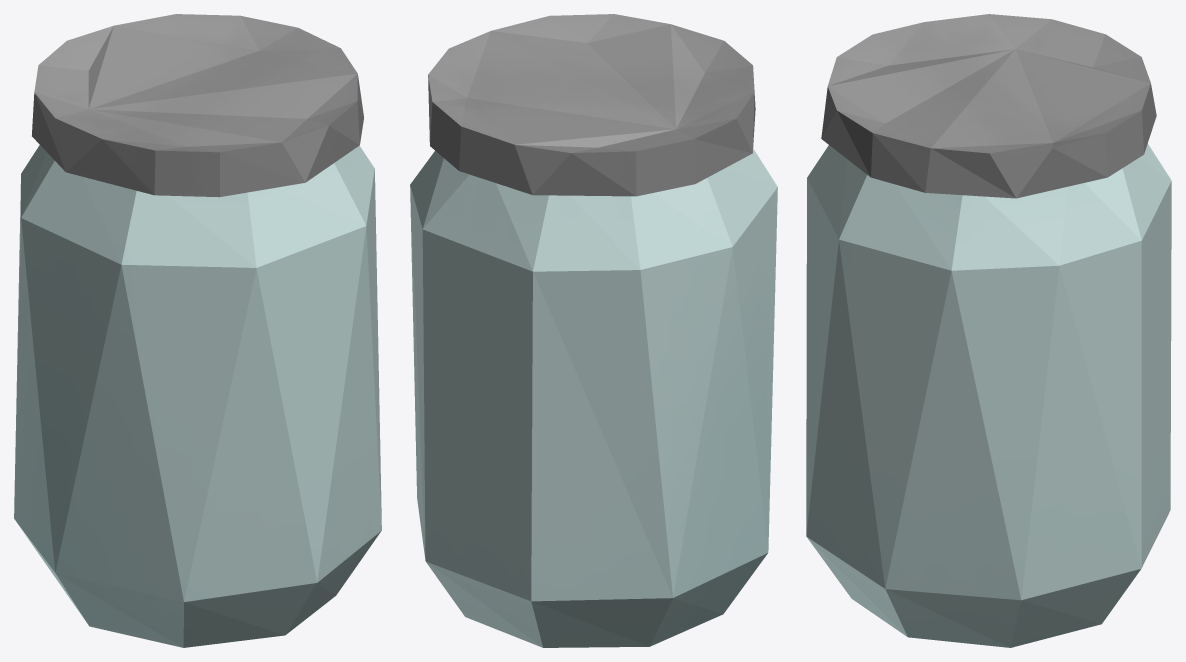
The model's file is bottle2_2b.dae.
3 views of the same model, side by side, from view 1: azimuth 30°, elevation 25°; view 2: azimuth 150°, elevation 25°; view 3: azimuth 270°, elevation 25° (orthographic).
Visible parts, largest first — view 1: node; view 2: node; view 3: node.
Part boxes in pixels (x1,y1,x2,y2): node: (14, 14, 381, 647); node: (410, 14, 777, 647); node: (806, 14, 1171, 647).
Bounding box in the file's own units: 0.1119 × 0.1706 × 0.1117.
1 material, 1 textured.
